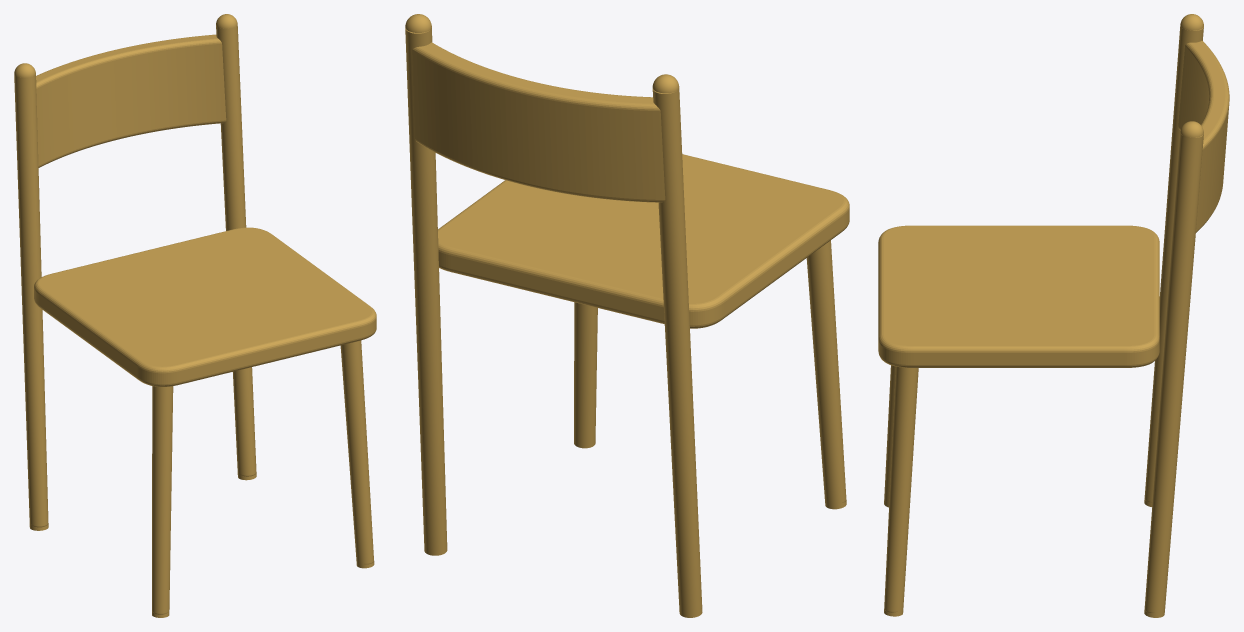
Rendered from chair_gold.glb.
3 renders of one model, left to right at view 1: azimuth 30°, elevation 25°; view 2: azimuth 150°, elevation 25°; view 3: azimuth 270°, elevation 25°, orthographic. The views are drawn at different scales.
Size of the model in its own units: 0.446 by 0.8191 by 0.5317.
